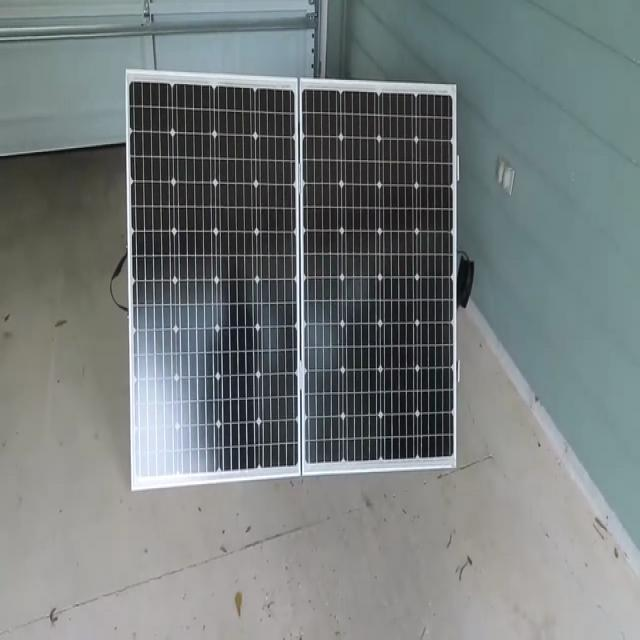Normal Solar Panel: (126, 69, 456, 489)
